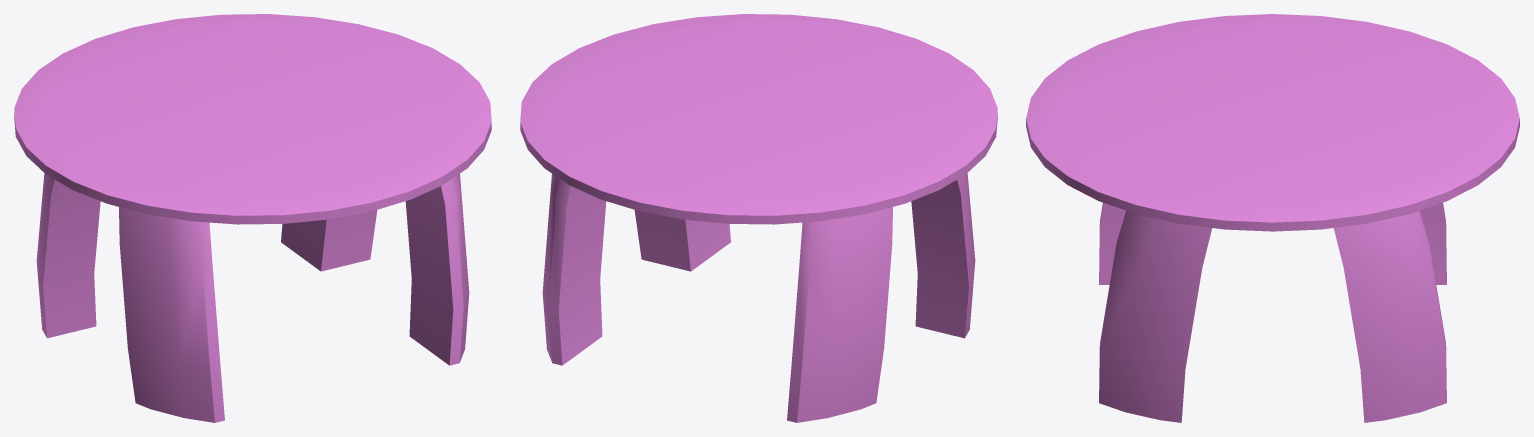
3 renders of one model, left to right at view 1: azimuth 30°, elevation 25°; view 2: azimuth 150°, elevation 25°; view 3: azimuth 270°, elevation 25°, orthographic. The views are drawn at different scales.
Parts seen in each view (by area): view 1: split_parent_0; view 2: split_parent_0; view 3: split_parent_0.
Part boxes in pixels (x1=…): split_parent_0: x1=14, y1=14, x2=491, y2=422; split_parent_0: x1=520, y1=14, x2=997, y2=422; split_parent_0: x1=1026, y1=14, x2=1519, y2=422.
Bounding box in the file's own units: 1 × 0.5065 × 1.
